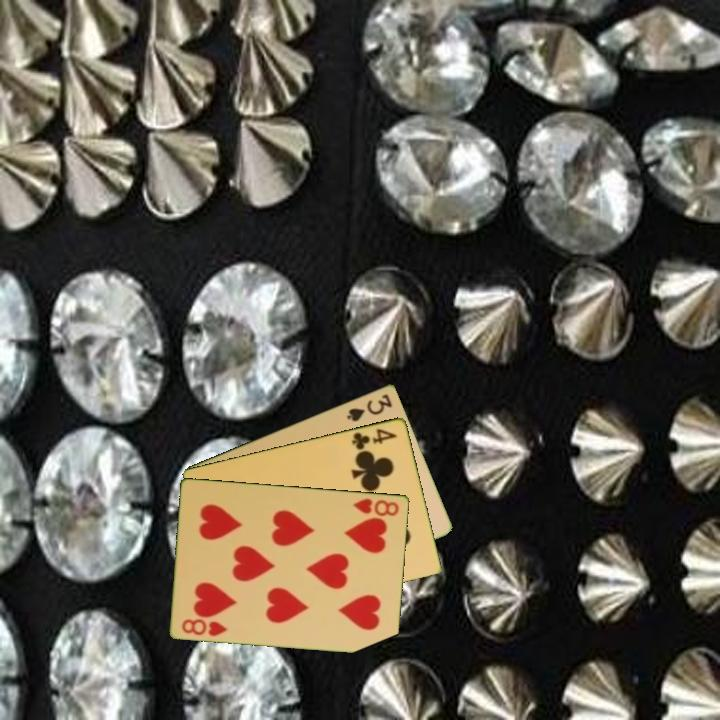3s: (343, 390, 395, 424)
4c: (348, 424, 400, 453)
8h: (350, 495, 402, 519), (179, 615, 230, 639)
